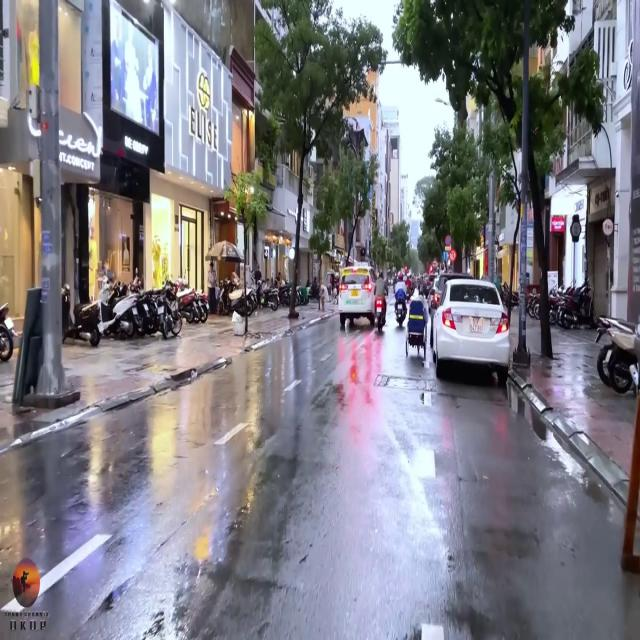bien_trang: (468, 315, 483, 334)
